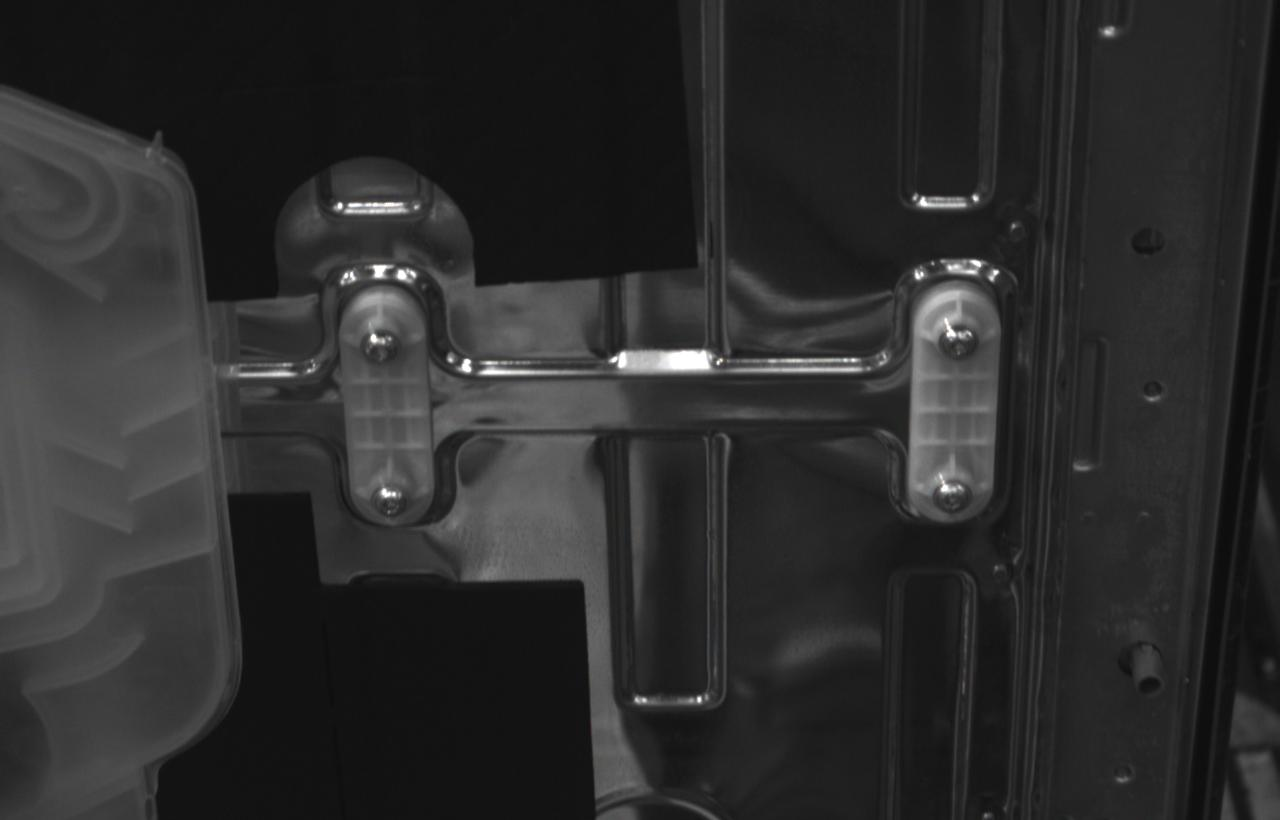vida-ok: (360, 329, 401, 365), (938, 325, 979, 360), (933, 480, 972, 514), (372, 484, 407, 517)
